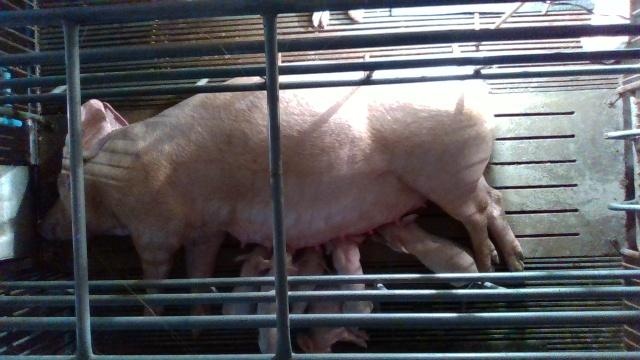piglet: (297, 268, 368, 353), (259, 252, 298, 353), (326, 234, 374, 314), (221, 245, 271, 315), (289, 247, 332, 314)
sow-sleep-lactate: (37, 67, 526, 337)
